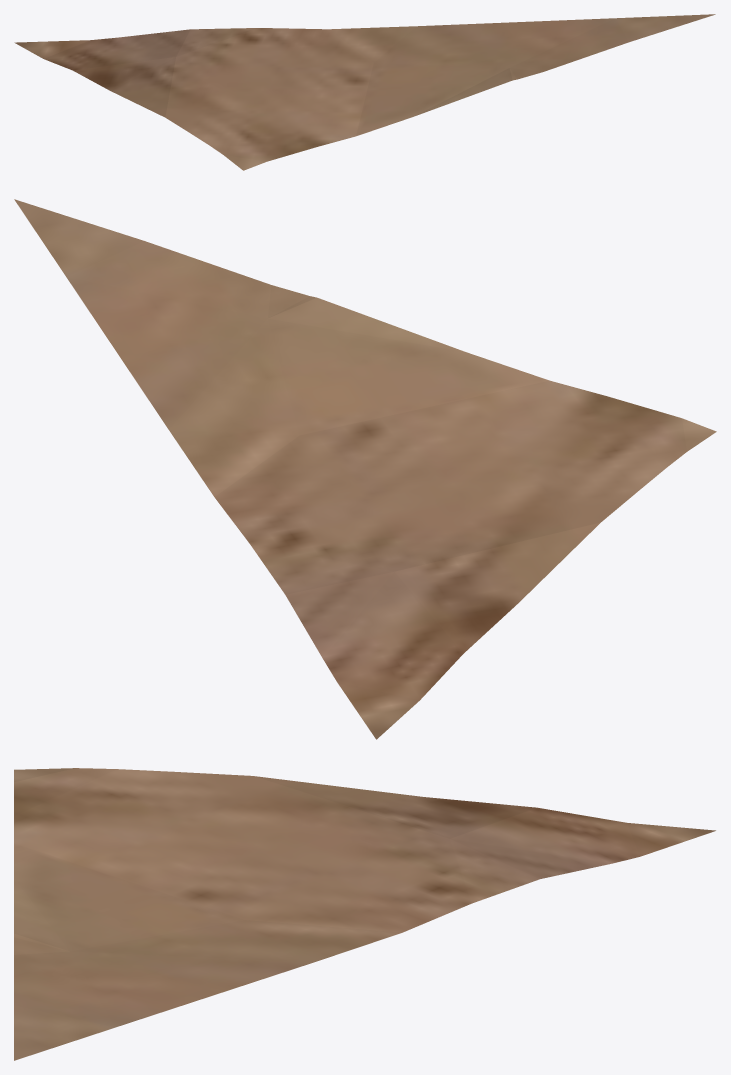
3 views of the same model, one above another, from view 1: azimuth 30°, elevation 25°; view 2: azimuth 150°, elevation 25°; view 3: azimuth 270°, elevation 25° (orthographic). The views are drawn at different scales.
Size of the model in its own units: 1.25 by 0.204 by 1.05.
Materials: 1 (1 with a texture image).
